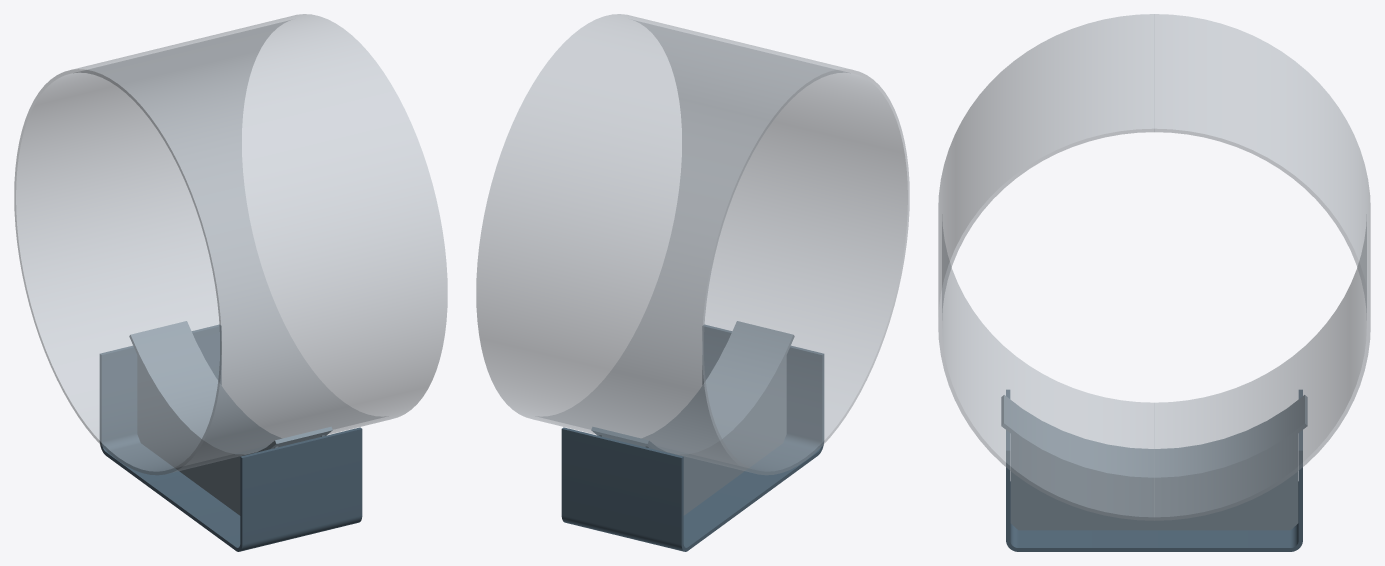
Rendered from TS-624.000-064-opora-dn1020-H150-L340.glb.
3 renders of one model, left to right at view 1: azimuth 30°, elevation 25°; view 2: azimuth 150°, elevation 25°; view 3: azimuth 270°, elevation 25°, orthographic. The views are drawn at different scales.
Visible parts, largest first — view 1: truba, skoba, podushka_0, rebro3_0; view 2: truba, skoba, podushka_0, rebro3_0; view 3: truba, rebro3_1, podushka_0, skoba.
Boxes of the visible parts, x1,y1,x2,y2 form: truba: [14, 14, 447, 475]; skoba: [99, 324, 362, 551]; podushka_0: [129, 321, 332, 458]; rebro3_0: [137, 356, 278, 515]; truba: [476, 14, 909, 475]; skoba: [561, 324, 824, 551]; podushka_0: [591, 321, 794, 458]; rebro3_0: [645, 356, 786, 515]; truba: [938, 14, 1370, 520]; rebro3_1: [1010, 434, 1298, 530]; podushka_0: [1001, 395, 1307, 481]; skoba: [1006, 389, 1302, 551].
Bounding box in the file's own units: 640 × 1171 × 1020.
